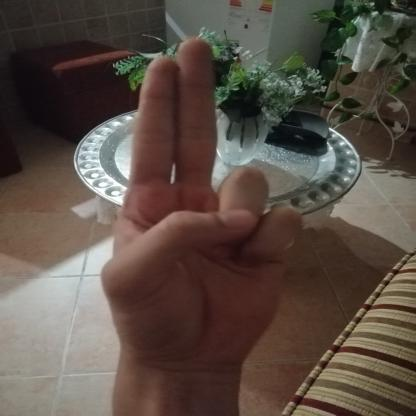TA: (81, 29, 323, 383)
